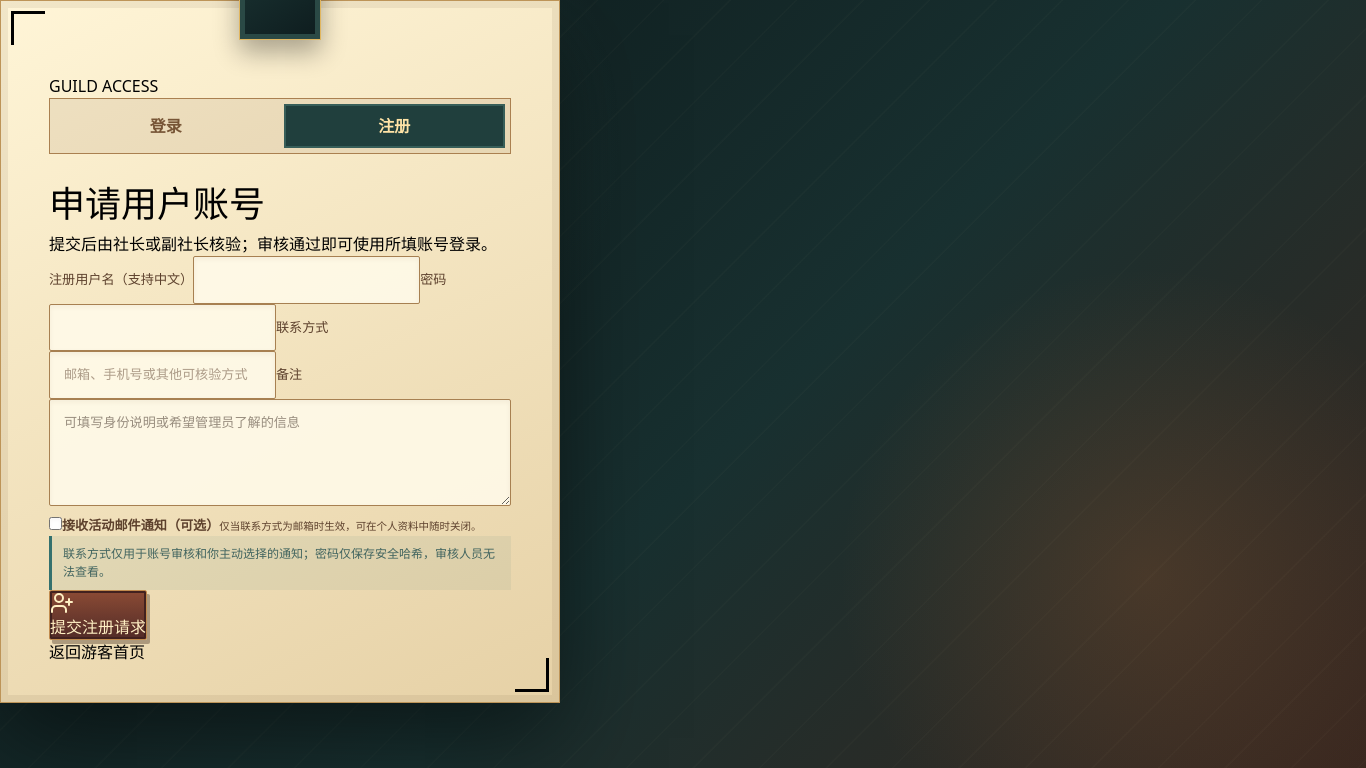
Test: Adventurer Guild app › keeps email notification consent optional and submits the explicit registration choice
Step 1. Type "星砂成员" into the field labelled "注册用户名（支持中文）" → {"x": 307, "y": 280}, box [193,256,420,304]
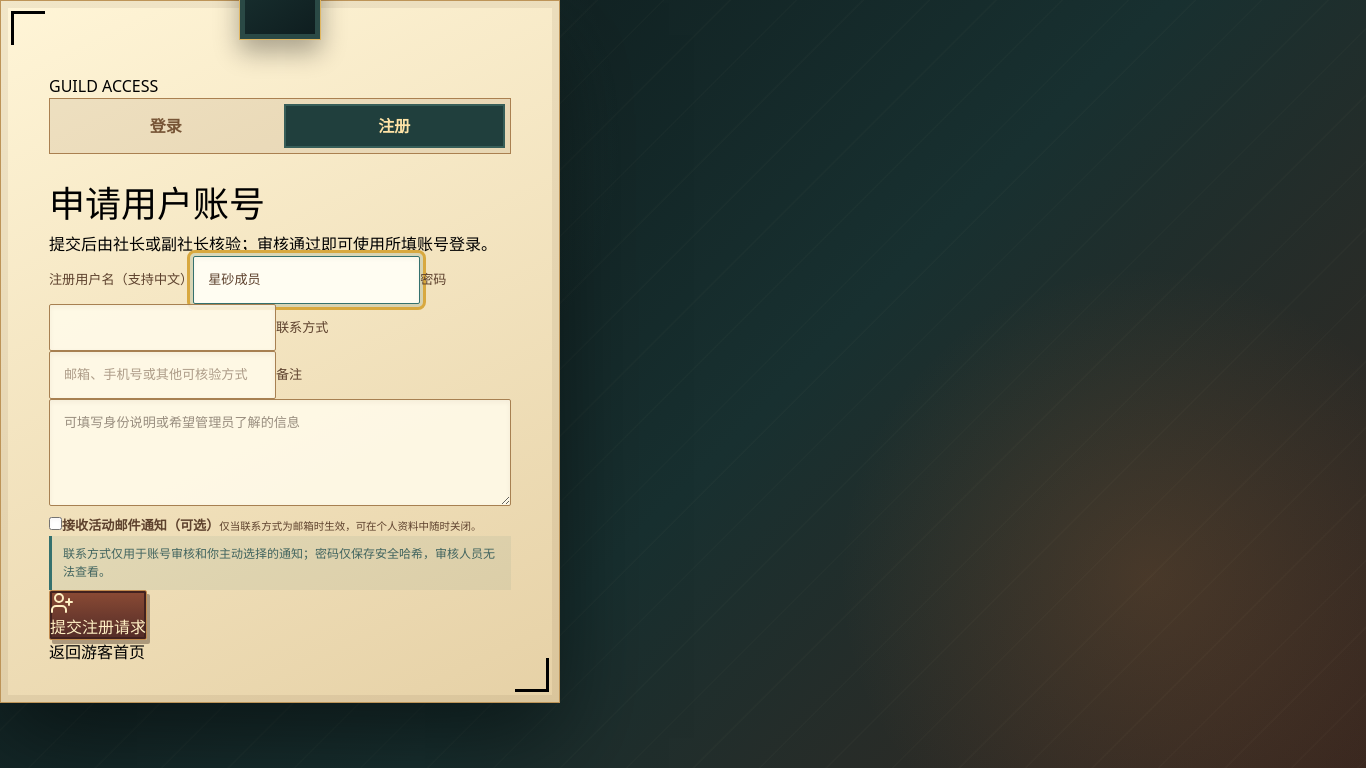
Step 2. Type "NewMember!2026" into the password field labelled "密码" → {"x": 162, "y": 328}, box [49,304,276,351]
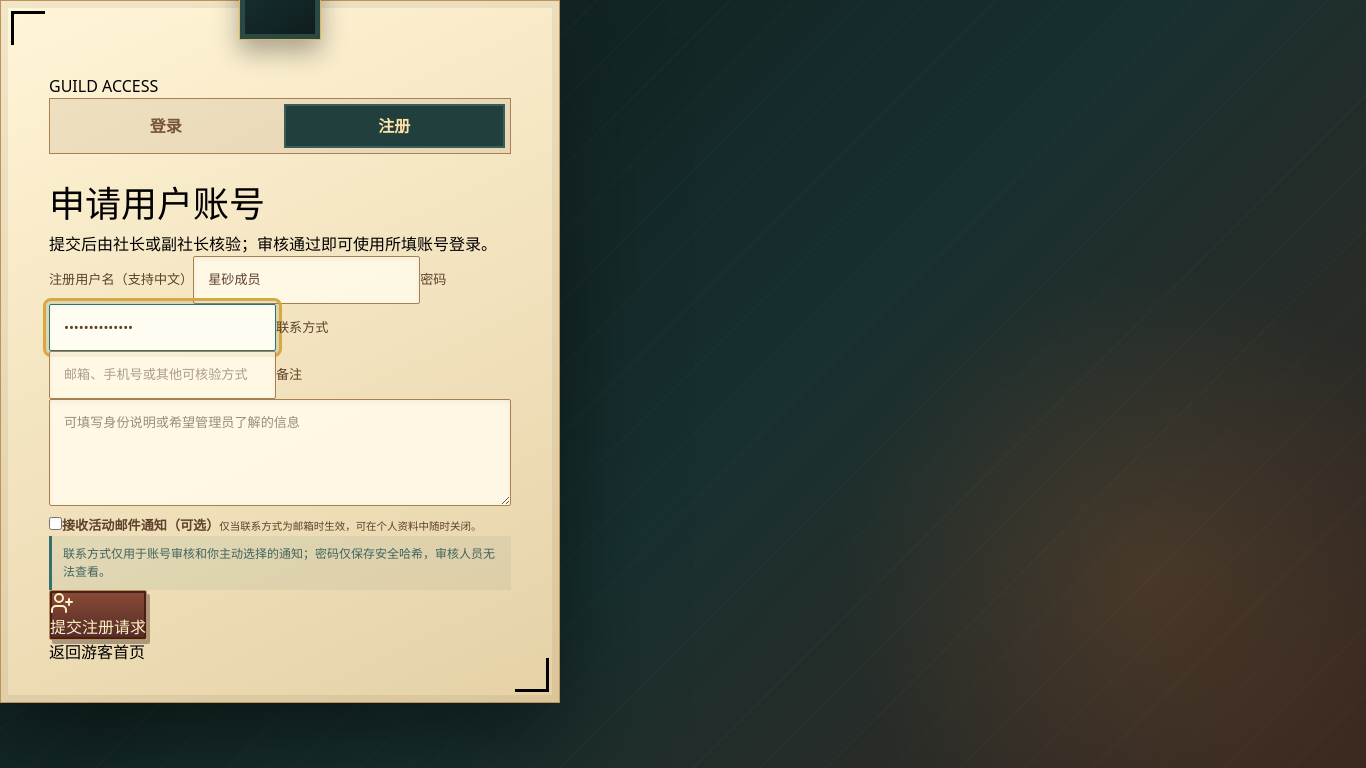
Step 3. Type "new.member@example.test" into the field labelled "联系方式" → {"x": 162, "y": 375}, box [49,351,276,399]
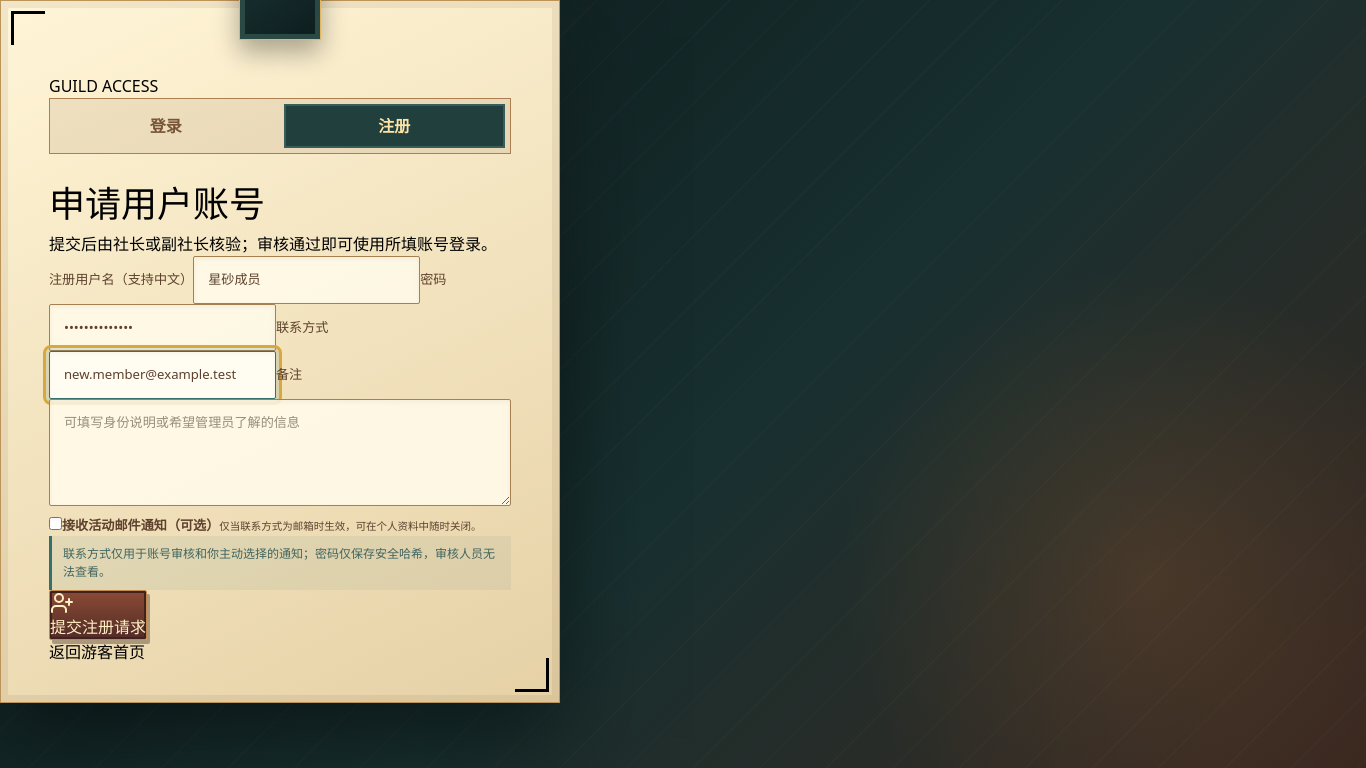
Step 4. Type "希望加入社团线上社区" into the text box labelled "备注" → {"x": 280, "y": 452}, box [49,399,511,506]
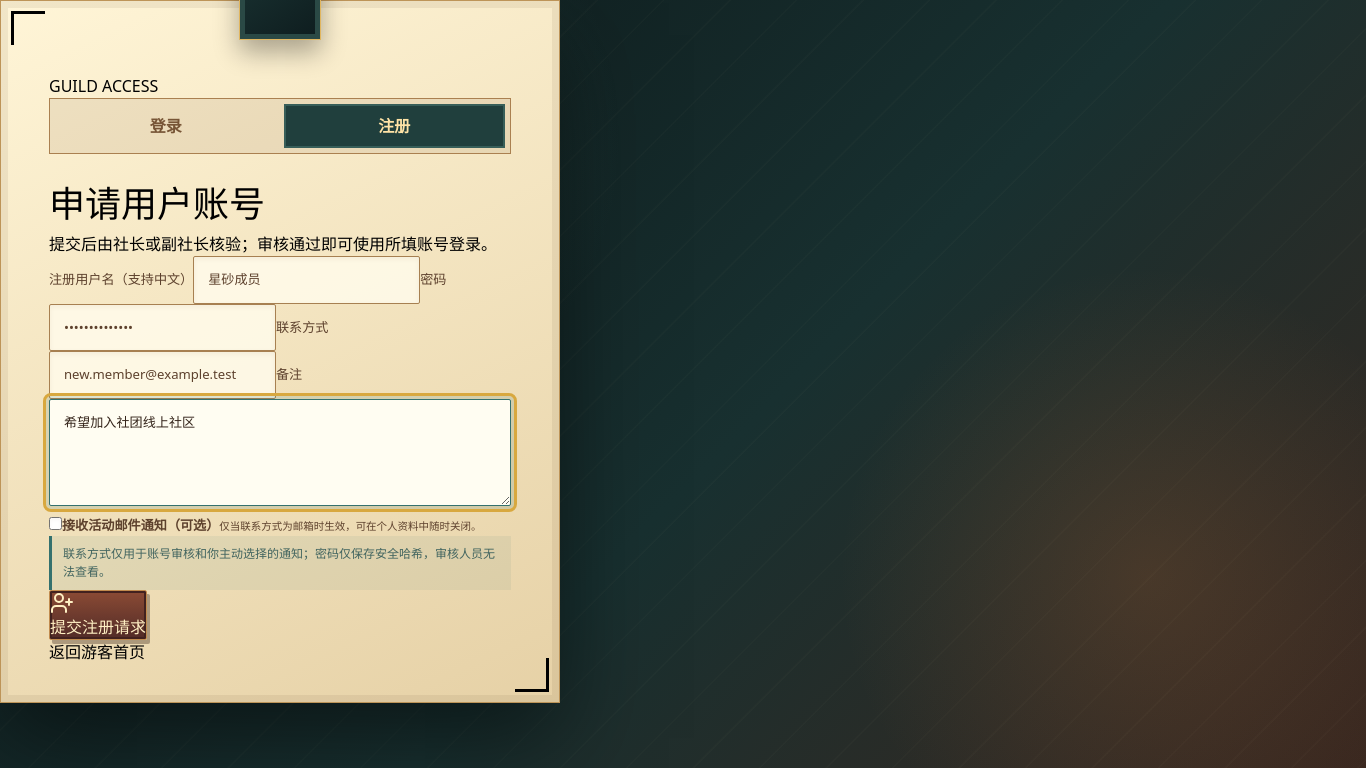
Step 5. Click the checkbox labelled "接收活动邮件通知（可选）仅当联系方式为邮箱时生效，可在个人资料中随时关闭。" → {"x": 56, "y": 523}, box [49,517,62,530]
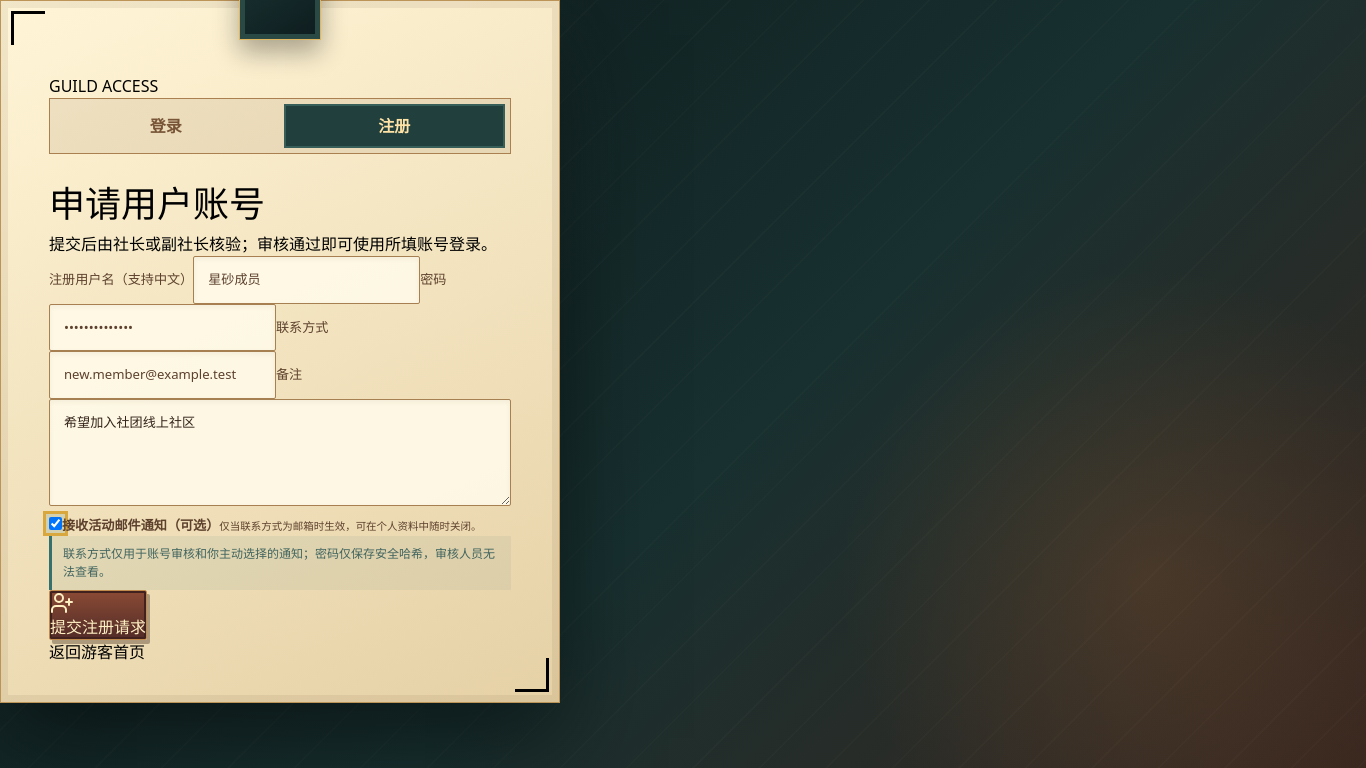
Step 6. Click the button "提交注册请求" → {"x": 98, "y": 615}, box [49,590,147,640]
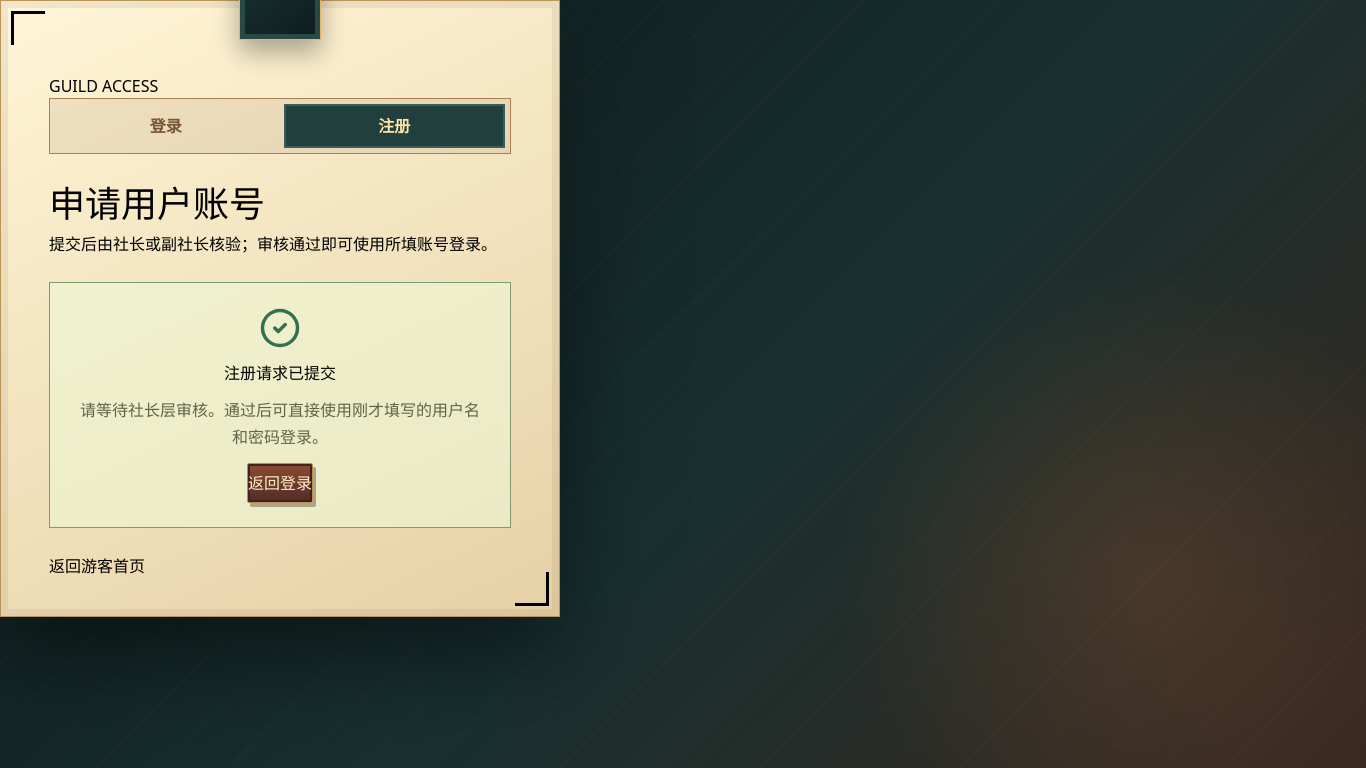
Result: the message shows "注册请求已提交" at [224,362,336,384]
